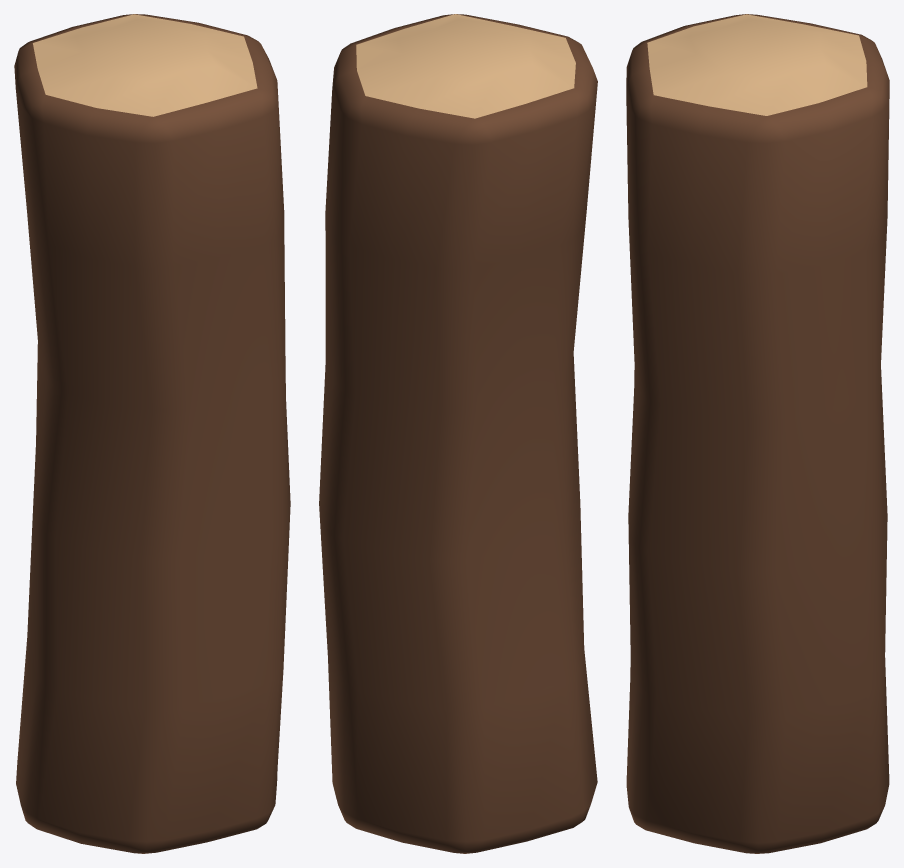
The model's file is SM_Log_A.fbx.
3 views of the same model, side by side, from view 1: azimuth 30°, elevation 25°; view 2: azimuth 150°, elevation 25°; view 3: azimuth 270°, elevation 25° (orthographic).
Parts seen in each view (by area): view 1: SM_Log_A; view 2: SM_Log_A; view 3: SM_Log_A.
Boxes of the visible parts, x1=… form: SM_Log_A: x1=14, y1=14, x2=290, y2=853; SM_Log_A: x1=319, y1=14, x2=597, y2=853; SM_Log_A: x1=626, y1=14, x2=889, y2=853.
Size of the model in its own units: 0.1152 by 0.3325 by 0.1037.
